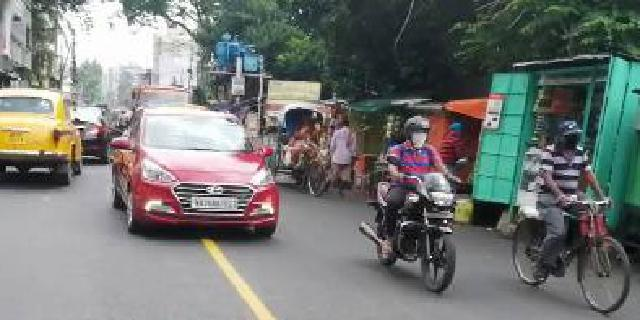Car: (107, 103, 285, 238), (1, 90, 84, 190)
Cycle: (510, 118, 633, 315)
Motorbike: (356, 104, 467, 297)
